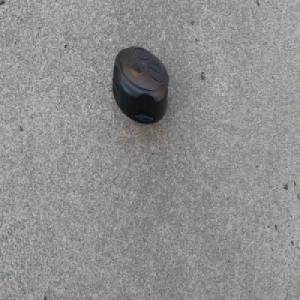FuelCap: (111, 45, 169, 129)
